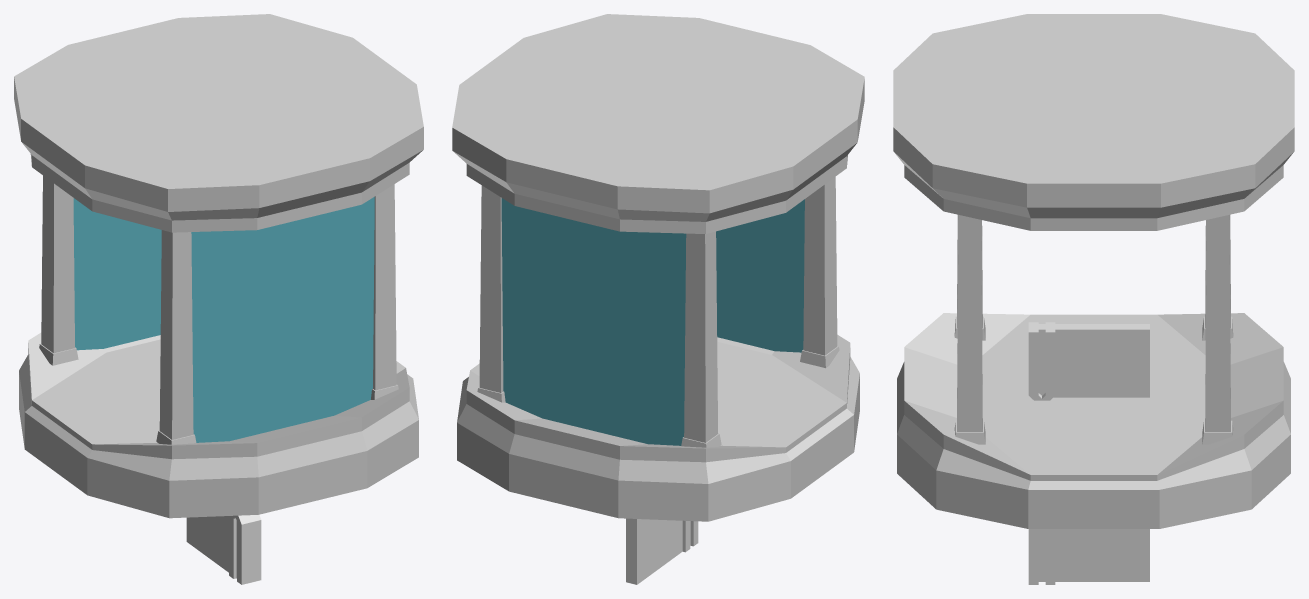
Rendered from door02.fbx.
The picture shows the model from 3 angles, left to right: view 1: azimuth 30°, elevation 25°; view 2: azimuth 150°, elevation 25°; view 3: azimuth 270°, elevation 25°; orthographic projection. The views are drawn at different scales.
Parts seen in each view (by area): view 1: Cube, Cube.001, Cube.003; view 2: Cube, Cube.003, Cube.001; view 3: Cube, Cube.001, Cube.003.
Part boxes in pixels (bbox=[...]): Cube: bbox=[14, 14, 423, 518]; Cube.001: bbox=[186, 515, 261, 584]; Cube.003: bbox=[186, 515, 236, 578]; Cube: bbox=[452, 14, 864, 521]; Cube.003: bbox=[637, 519, 690, 584]; Cube.001: bbox=[626, 518, 698, 584]; Cube: bbox=[893, 14, 1294, 528]; Cube.001: bbox=[1028, 322, 1149, 584]; Cube.003: bbox=[1041, 322, 1149, 584].
Size of the model in its own units: 611 by 807 by 611.
